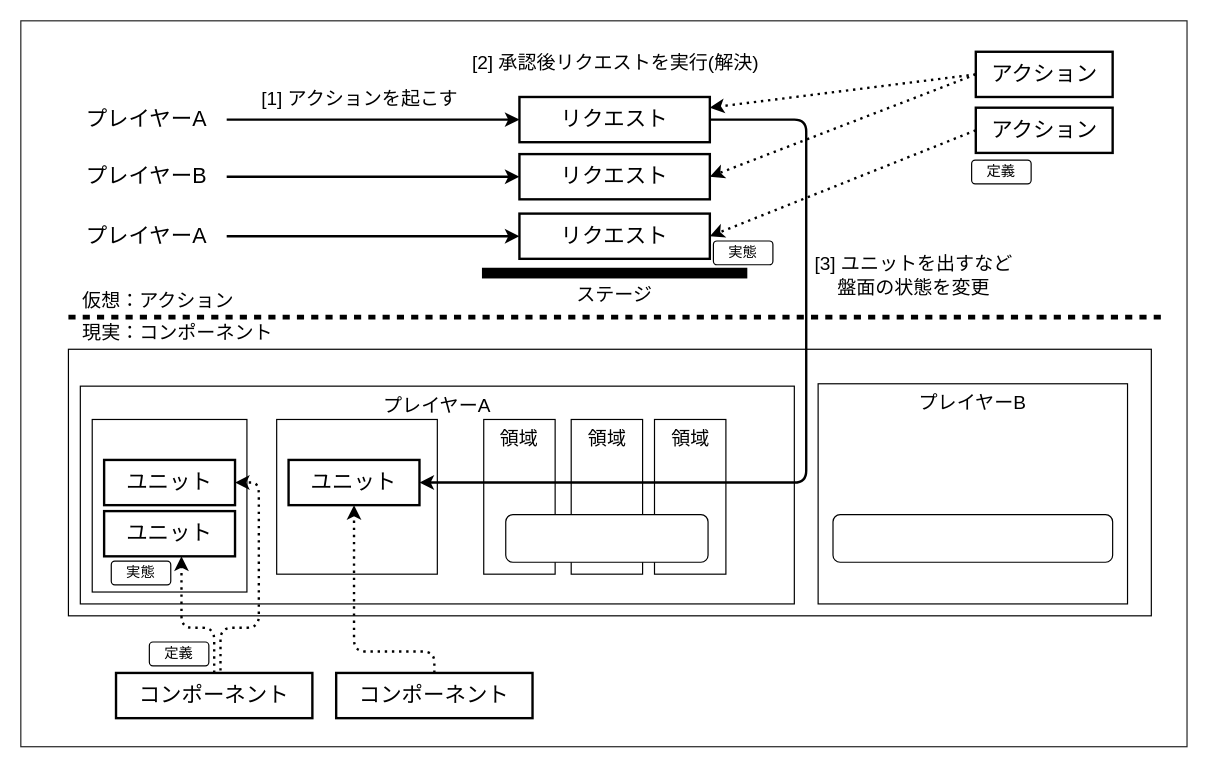
Some shapes in this 1208 by 768 pixel diagram are drawn without their labels. The box of each missing label's shape, as (x1, y1, x2, y2) in pixels:
プレイヤーAと同じ種類の領域がある: (832, 513, 1113, 562)
様々な領域がある: (505, 513, 708, 562)
盤面: (67, 348, 1151, 616)
領域:フォグ: (275, 418, 437, 574)
領域:場: (91, 418, 247, 592)
